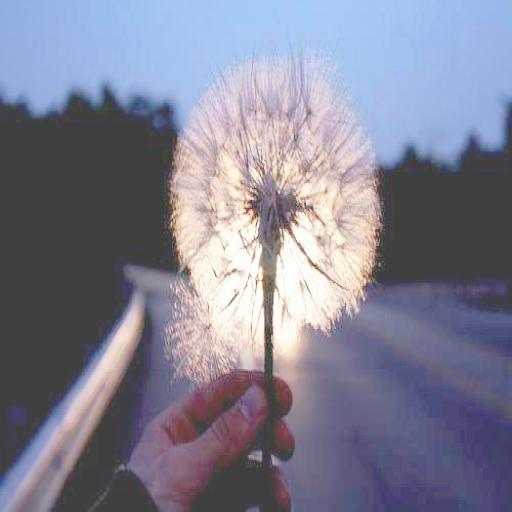dandelion: (172, 61, 373, 346)
